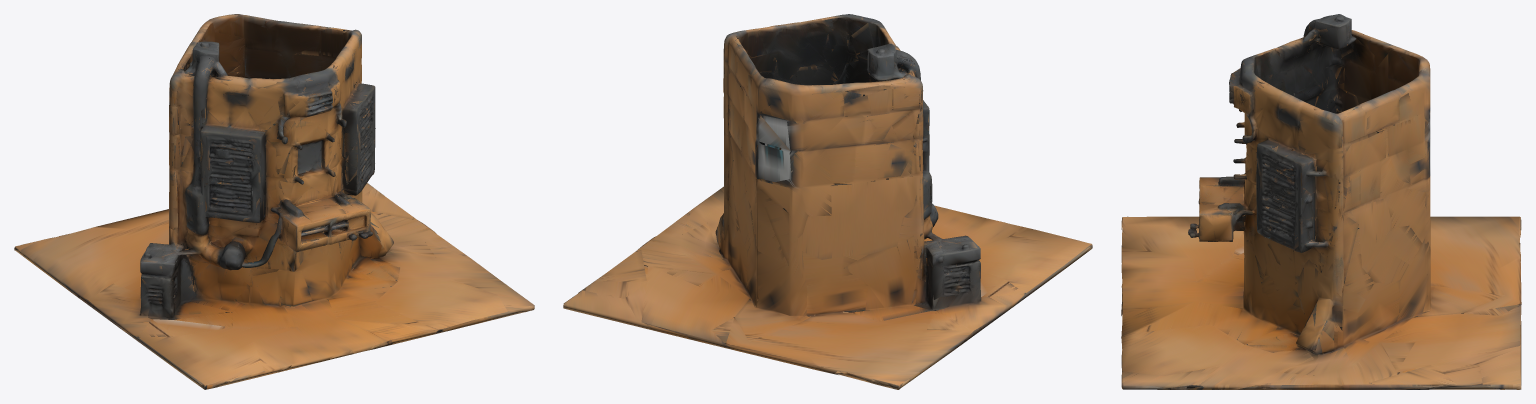
3 views of the same model, side by side, from view 1: azimuth 30°, elevation 25°; view 2: azimuth 150°, elevation 25°; view 3: azimuth 270°, elevation 25° (orthographic). The views are drawn at different scales.
Size of the model in its own units: 2 by 1.42 by 2.
1 material, 1 textured.
